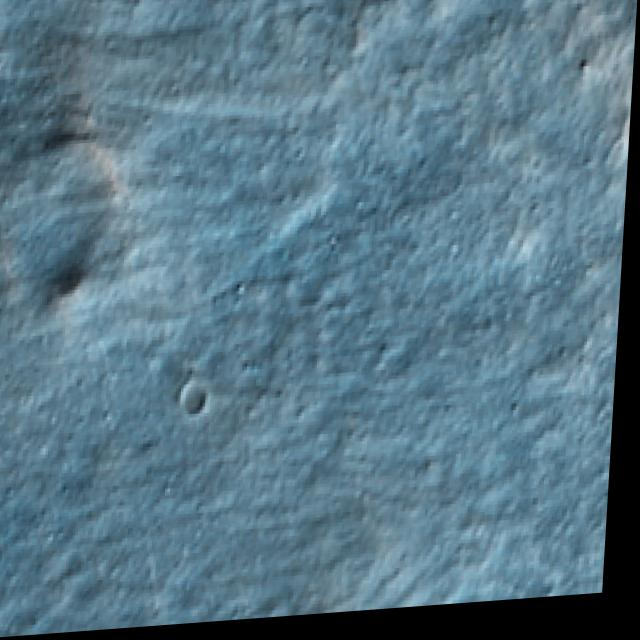Crater: (0, 122, 139, 326)
